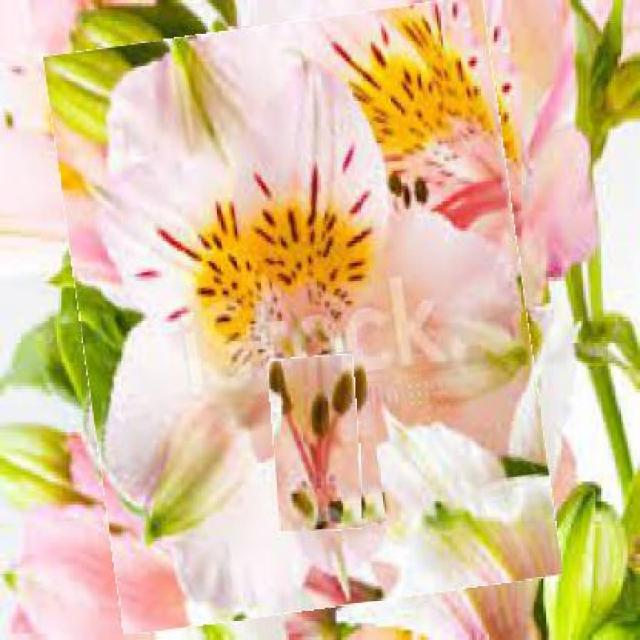Flower: (62, 9, 544, 622), (272, 356, 361, 533)
